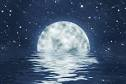moon: (36, 23, 91, 56)
